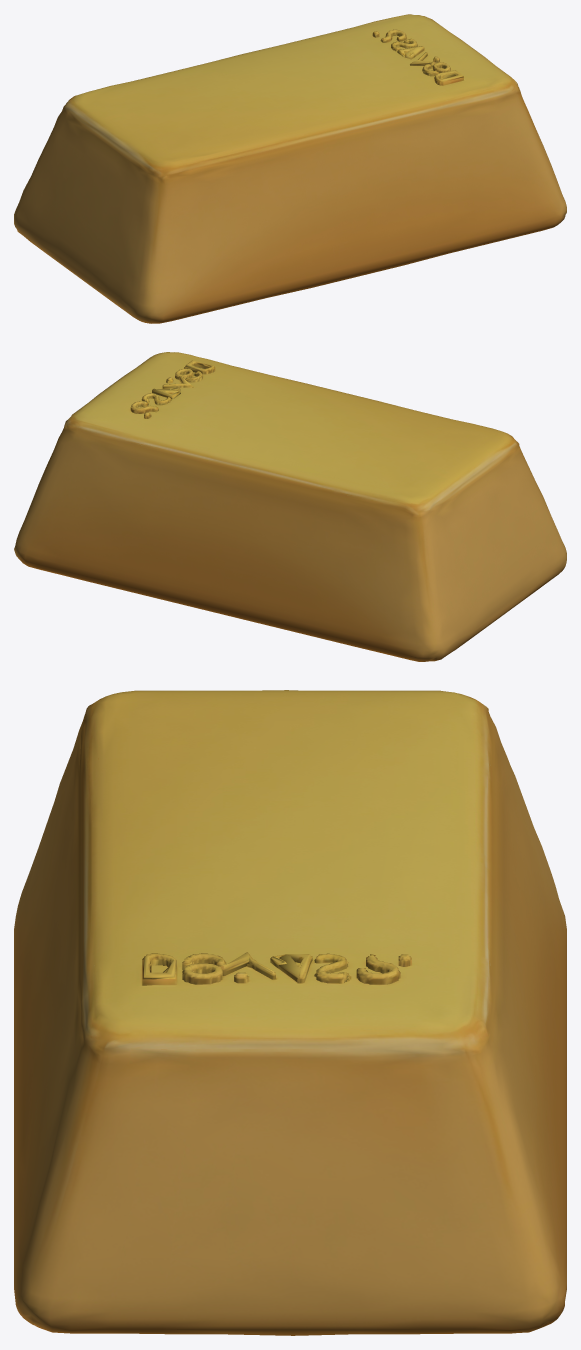
File: r33-goldbar.glb
The picture shows the model from 3 angles, top to bottom: view 1: azimuth 30°, elevation 25°; view 2: azimuth 150°, elevation 25°; view 3: azimuth 270°, elevation 25°; orthographic projection. The views are drawn at different scales.
Visible parts, largest first — view 1: tripo_node_e179eb39-f2ea-443a-89d5-ebe35fe47e7e; view 2: tripo_node_e179eb39-f2ea-443a-89d5-ebe35fe47e7e; view 3: tripo_node_e179eb39-f2ea-443a-89d5-ebe35fe47e7e.
Boxes of the visible parts, x1=… form: tripo_node_e179eb39-f2ea-443a-89d5-ebe35fe47e7e: x1=14, y1=14, x2=566, y2=323; tripo_node_e179eb39-f2ea-443a-89d5-ebe35fe47e7e: x1=14, y1=352, x2=566, y2=661; tripo_node_e179eb39-f2ea-443a-89d5-ebe35fe47e7e: x1=14, y1=690, x2=566, y2=1335.
Size of the model in its own units: 0.998 by 0.3418 by 0.5645.
1 material, 1 textured.
